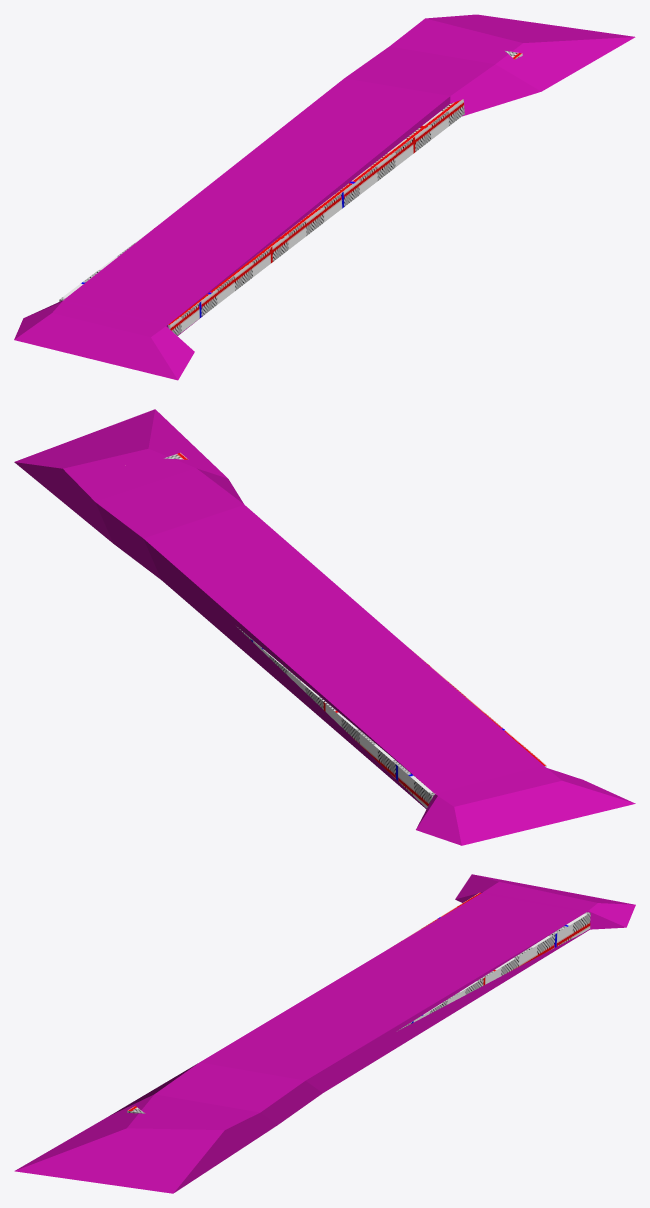
Rendered from bridge.obj.
3 views of the same model, one above another, from view 1: azimuth 90°, elevation 25°; view 2: azimuth 150°, elevation 25°; view 3: azimuth 270°, elevation 25° (orthographic). The views are drawn at different scales.
Visible parts, largest first — view 1: bridge; view 2: bridge; view 3: bridge.
Boxes of the visible parts, x1,y1,x2,y2 form: bridge: [14, 14, 635, 380]; bridge: [14, 409, 635, 845]; bridge: [14, 874, 635, 1193].
Bounding box in the file's own units: 16.5 × 1.19 × 12.65.
